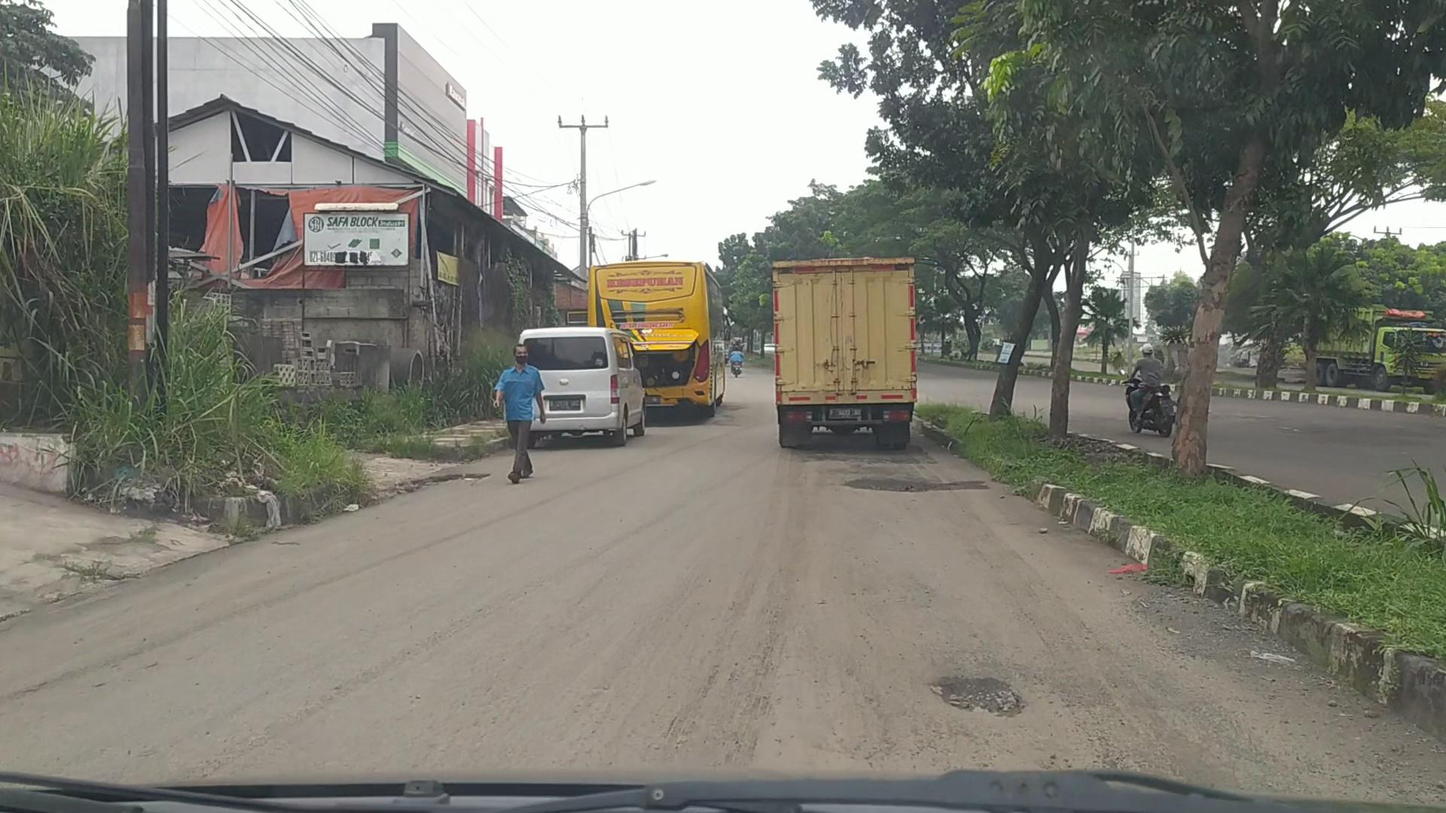pothole: (934, 676, 1019, 712), (849, 477, 987, 492)
